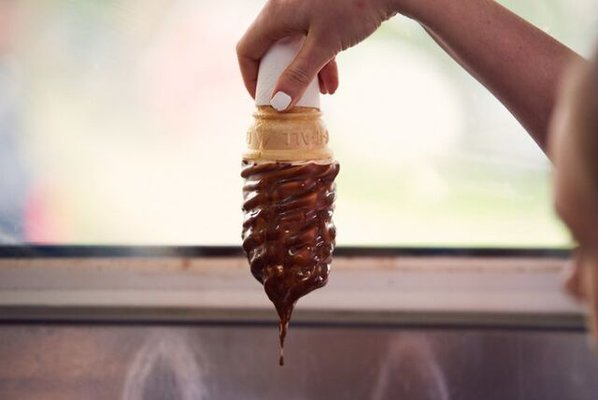pizza: (228, 0, 597, 365)
